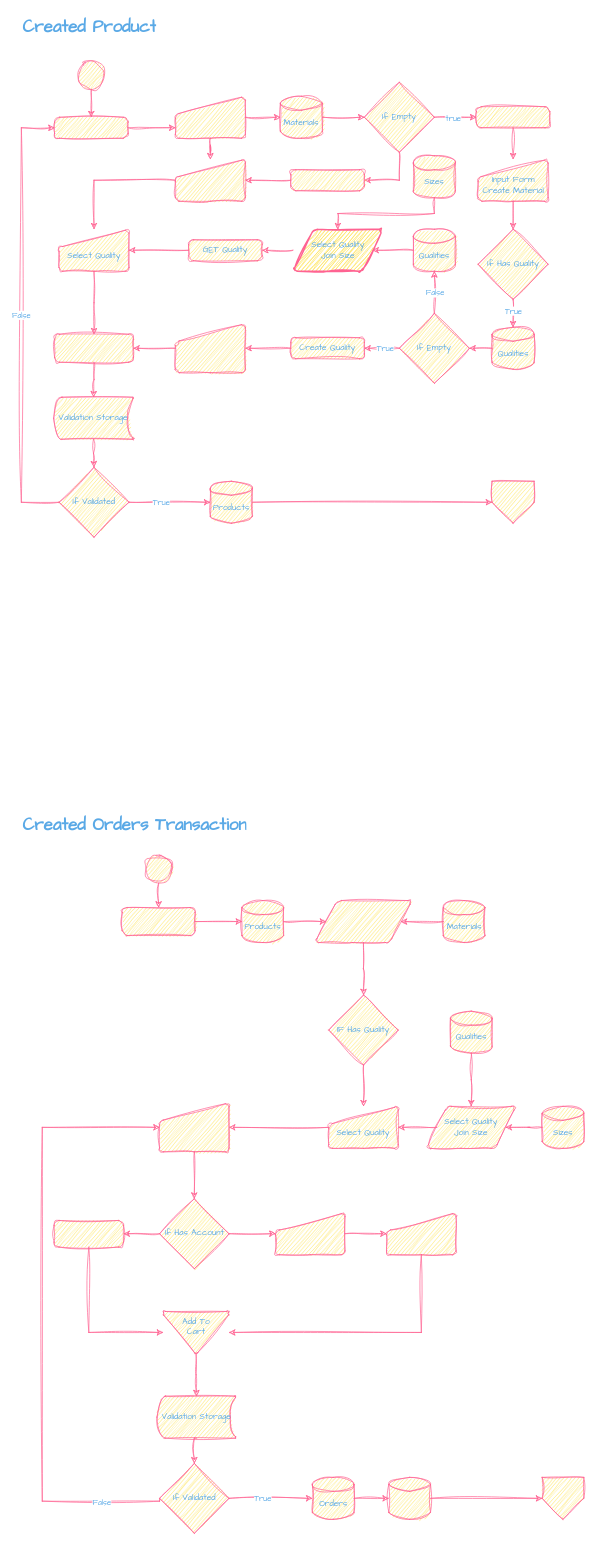
This 596x1546 diagram has some shape labels left out. The shapes that lost their labels are listed below. From the top down, each one's centre as x and y in pixels, then its label:
At (91,127): "Create Product".
At (210,117): "Input Form Create Product".
At (513,117): "Create Material".
At (210,180): "Select Materials".
At (327,180): "GET Materials".
At (93,348): "POST Create Product".
At (210,348): "Input Form Create Quality & Sizes".
At (158,921): "Direct Detail Product".
At (363,921): "Select Products JOIN Materials".
At (194,1127): "Input Form Detail Orders".
At (88,1233): "Function Login".
At (310,1233): "Input Form Customer".
At (421,1233): "Input Form Address".
At (409,1498): "Order detail".
